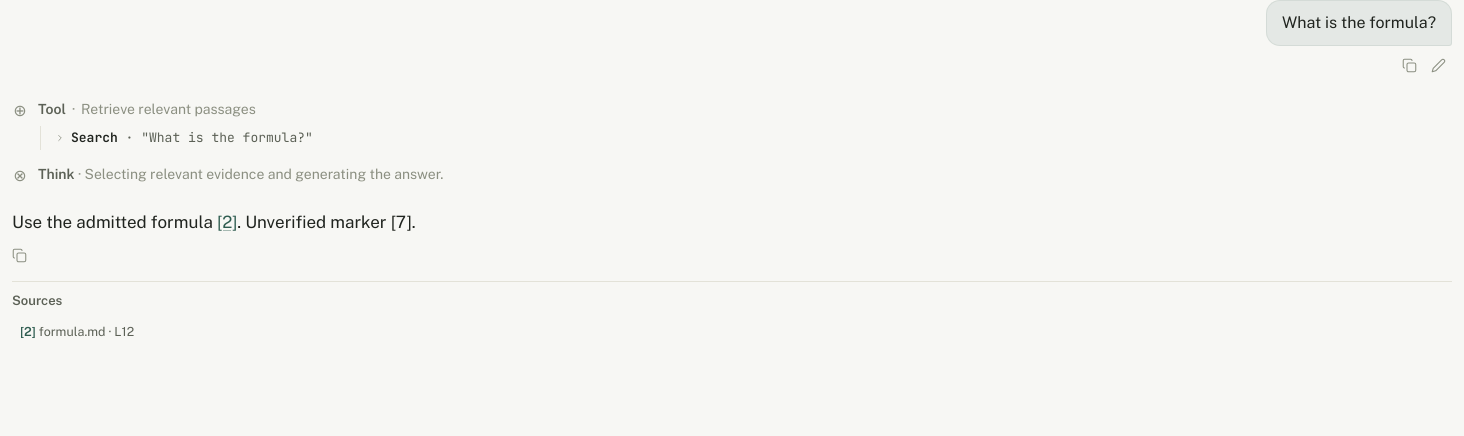
it: TurnCard › links inline citations to admitted evidence independently of retrieval rank
Check: the list item "[2] formula.md · L12" is shown, box [12,316,1452,347]
Check: the text "x = <formula> [truncated]" is not shown
Click the link "[2]" at (227, 222), box [217,212,237,232]
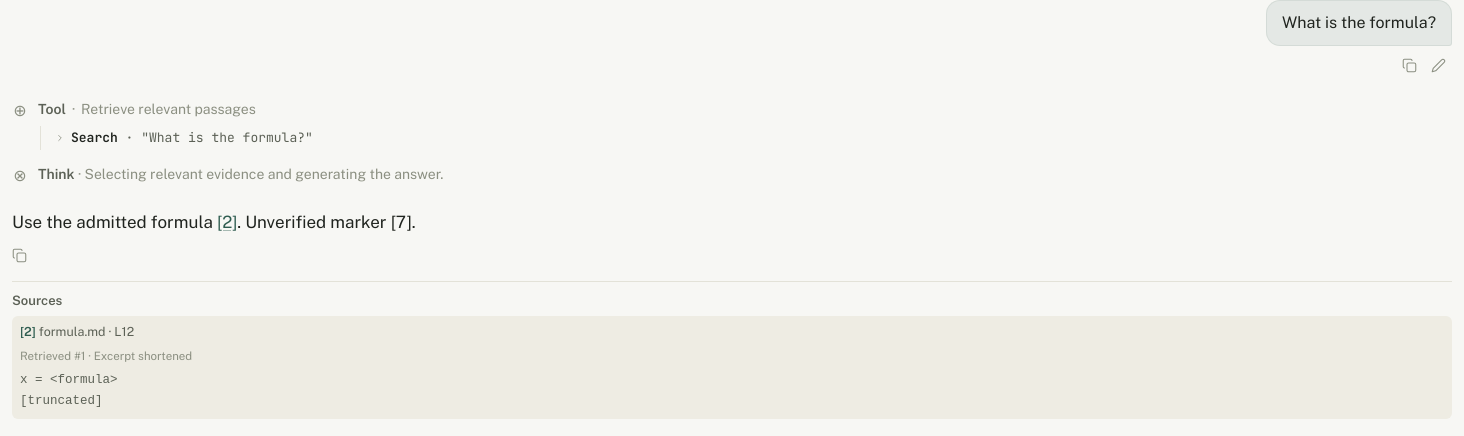
Check: the text "x = <formula> [truncated]" is shown, box [20,373,118,408]
Check: the text "Retrieved #1 · Excerpt shortened" is shown, box [20,349,192,363]
